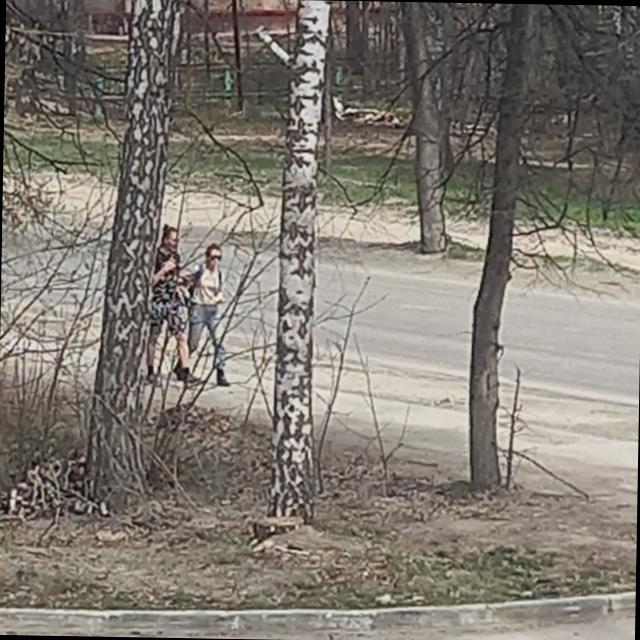person: (144, 224, 202, 385), (175, 242, 232, 388)
